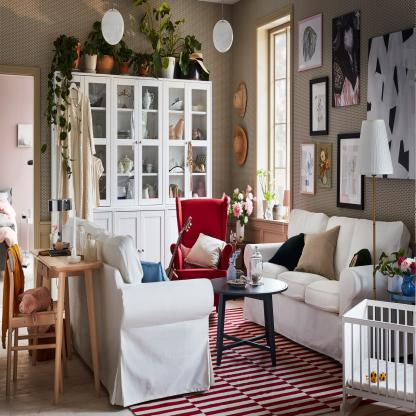bantal: (299, 228, 334, 275), (189, 235, 218, 265)
kursi: (5, 249, 64, 393), (172, 195, 235, 304)
lampu: (353, 119, 394, 202)
meja: (208, 272, 284, 368)
sova: (246, 209, 405, 369), (77, 218, 214, 394)
tanaman: (44, 35, 75, 131), (142, 4, 183, 57)
